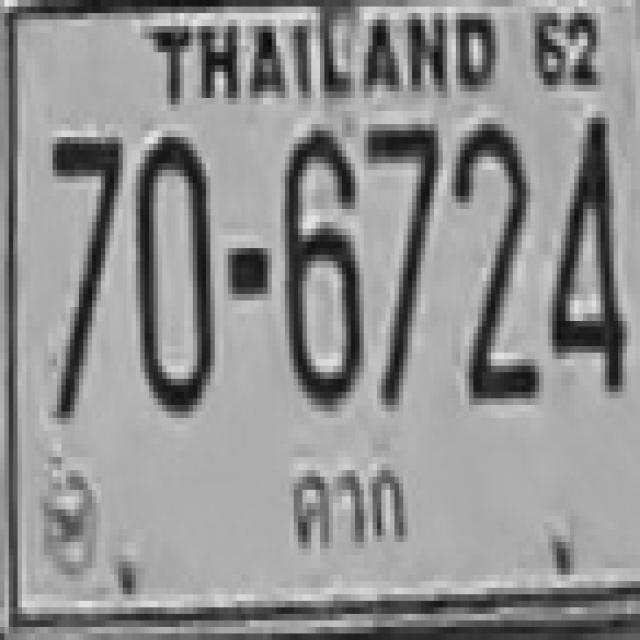0: (132, 134, 210, 408)
2: (452, 118, 530, 398), (458, 114, 533, 395), (449, 118, 528, 378)
4: (548, 111, 622, 385)
6: (280, 127, 360, 402)
7: (366, 120, 436, 402), (48, 134, 118, 415), (366, 118, 436, 346), (48, 131, 118, 333), (366, 117, 436, 300)
Tak: (274, 446, 416, 554)
